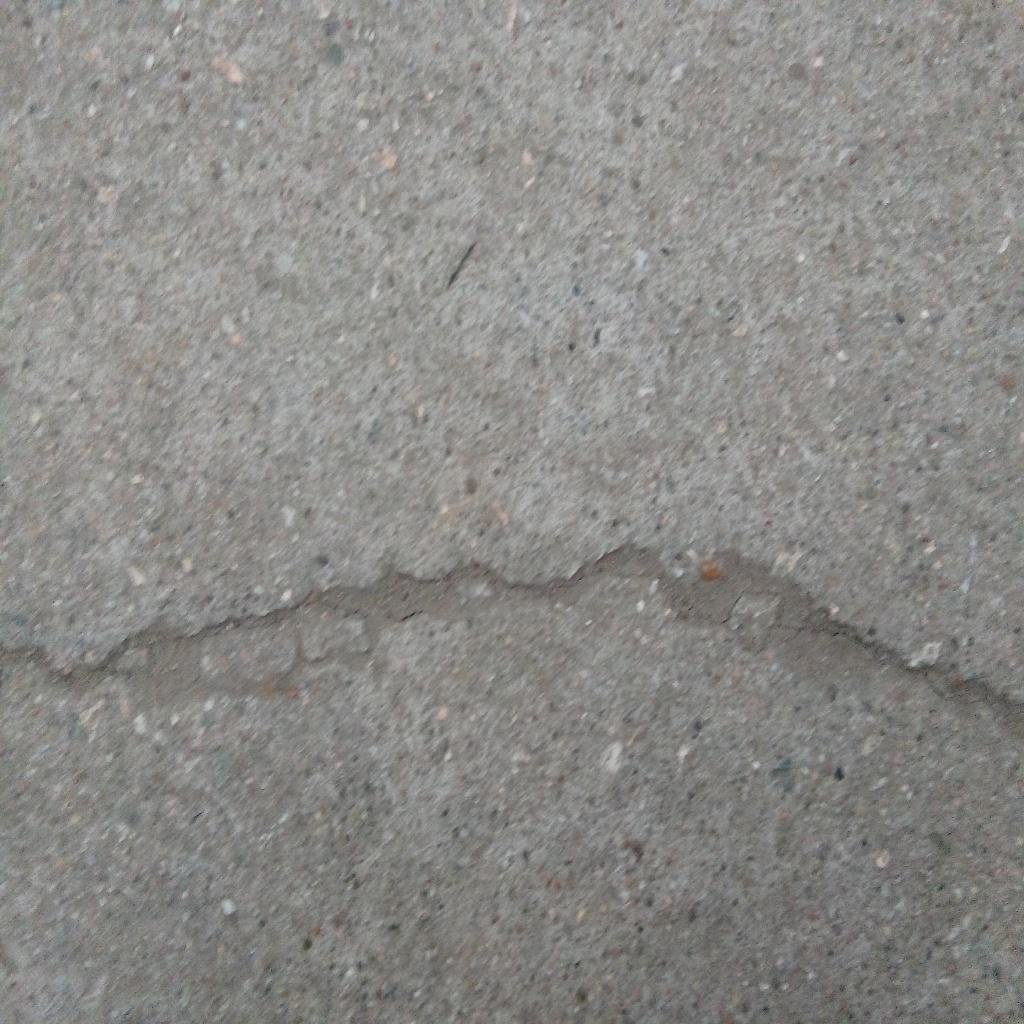Crack: (1, 542, 1024, 728)
